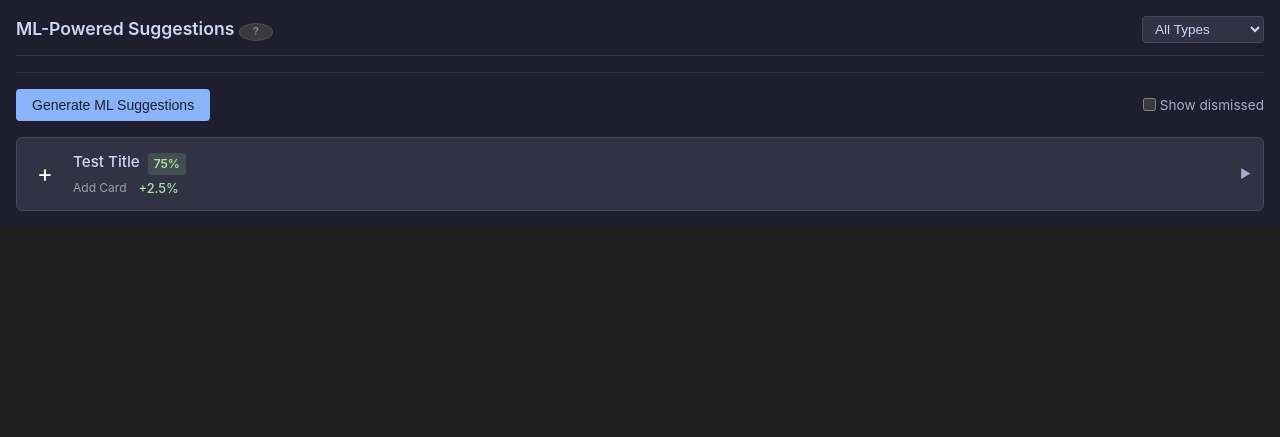
Test: MLSuggestionsPanel › Expand/Collapse › should collapse suggestion when clicked again
Click the heading "Test Title".
click(106, 162)  # box [73,151,140,174]
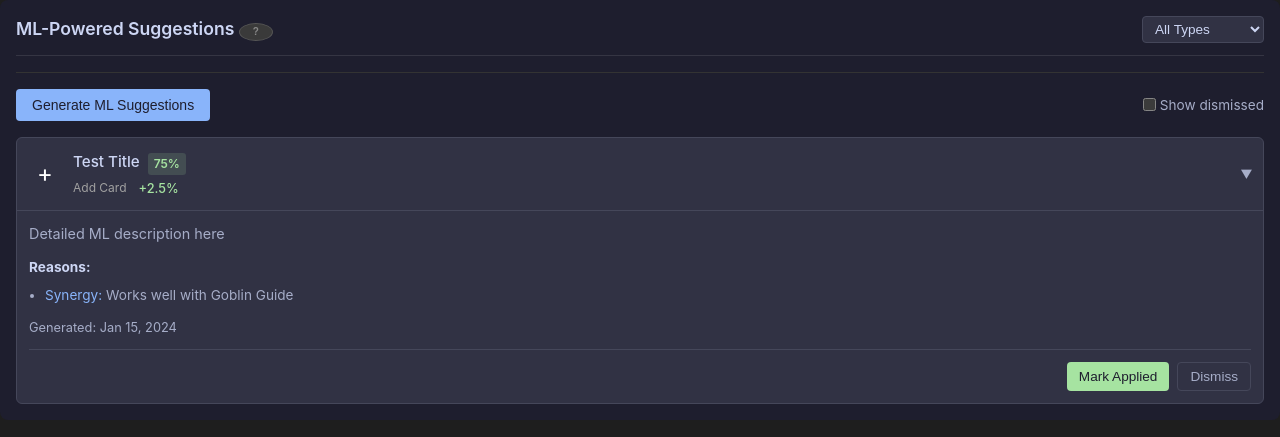
Now the text "Detailed ML description here" is shown, box [29,225,225,242]
Click the heading "Test Title".
click(106, 162)  # box [73,151,140,174]
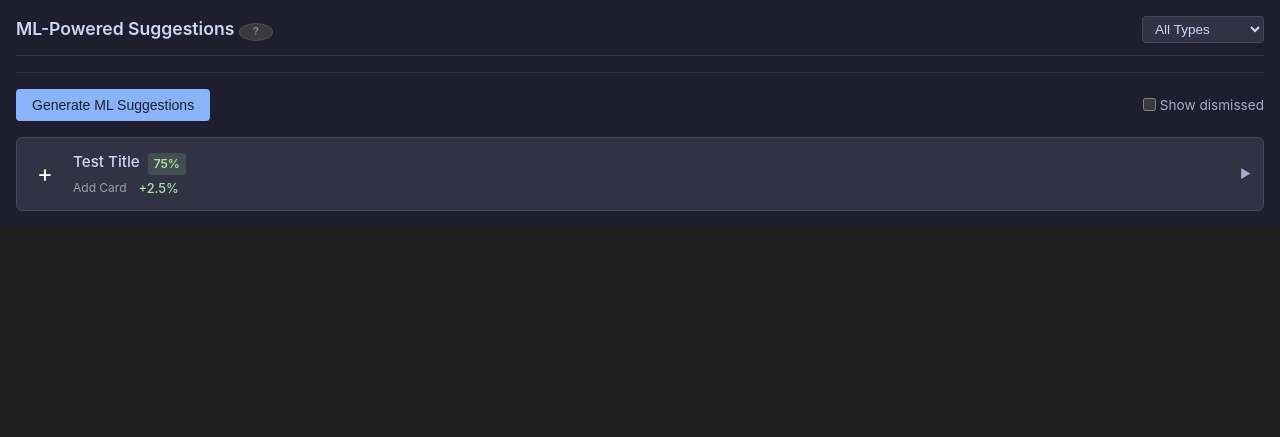
Now the text "Detailed ML description here" is gone
